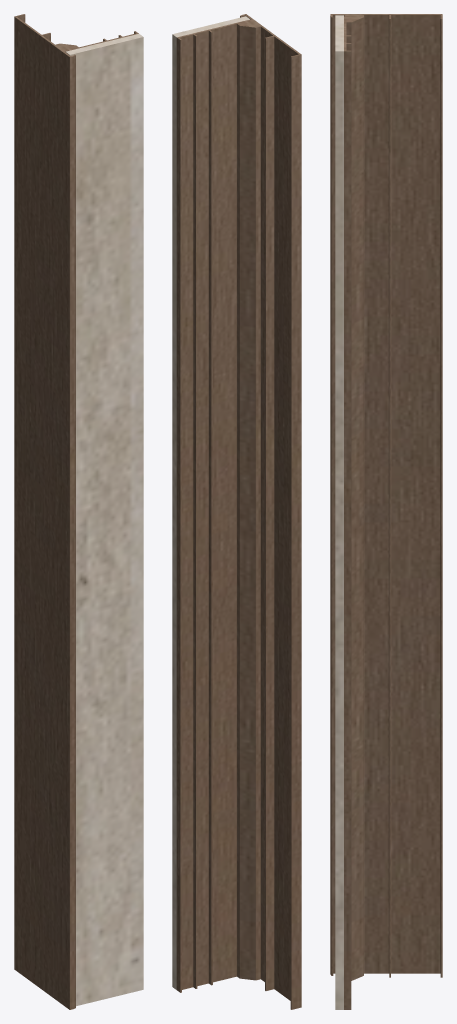
Rendered from BFP-717.glb.
3 renders of one model, left to right at view 1: azimuth 30°, elevation 25°; view 2: azimuth 210°, elevation 25°; view 3: azimuth 270°, elevation 25°, orthographic.
Visible parts, largest first — view 1: Object_node, ExtrSplGeo; view 2: ExtrSplGeo, Object_node; view 3: ExtrSplGeo, Object_node.
Boxes of the visible parts, bbox=[...] form: Object_node: bbox=[65, 34, 143, 1006]; ExtrSplGeo: bbox=[14, 14, 138, 1009]; ExtrSplGeo: bbox=[176, 14, 301, 1009]; Object_node: bbox=[172, 16, 250, 989]; ExtrSplGeo: bbox=[330, 14, 442, 1009]; Object_node: bbox=[335, 15, 343, 1009].
Bounding box in the file's own units: 0.06 × 0.717 × 0.076.
Materials: 2 (2 with a texture image).
